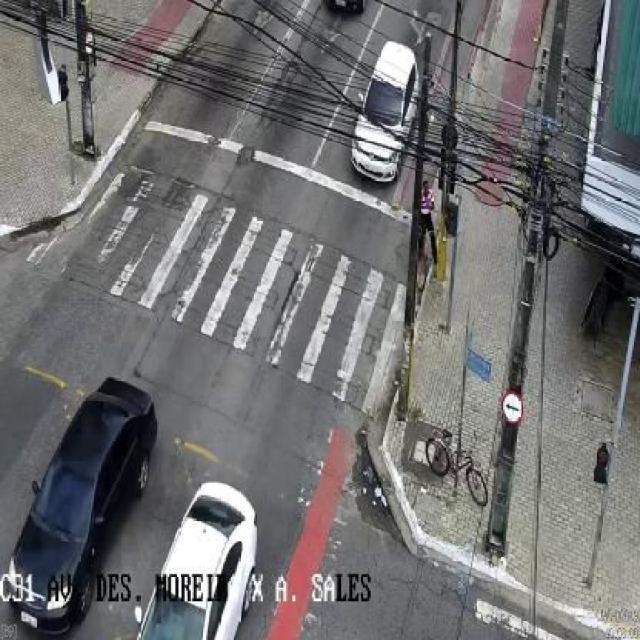Car: (0, 377, 161, 640), (133, 480, 254, 640), (351, 42, 423, 182)
Cycle: (420, 426, 490, 507)
